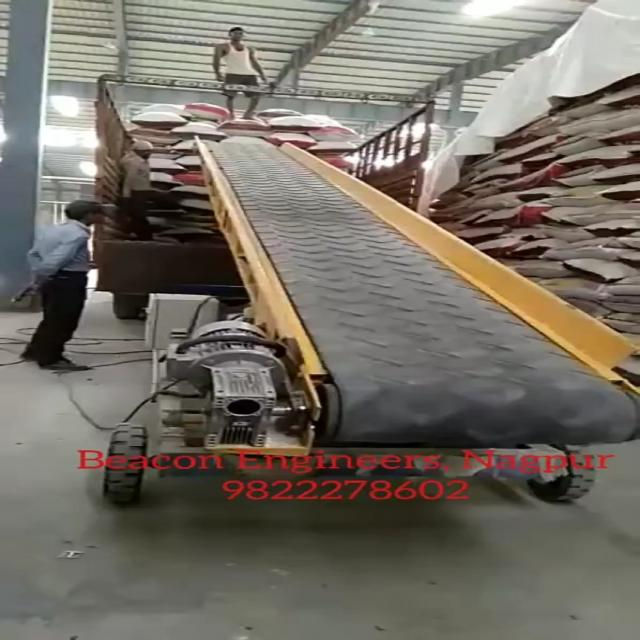Convoyeur: (190, 131, 640, 458)
